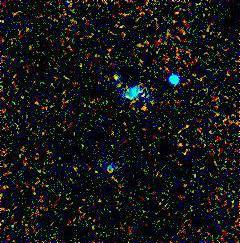star: (104, 60, 134, 90)
